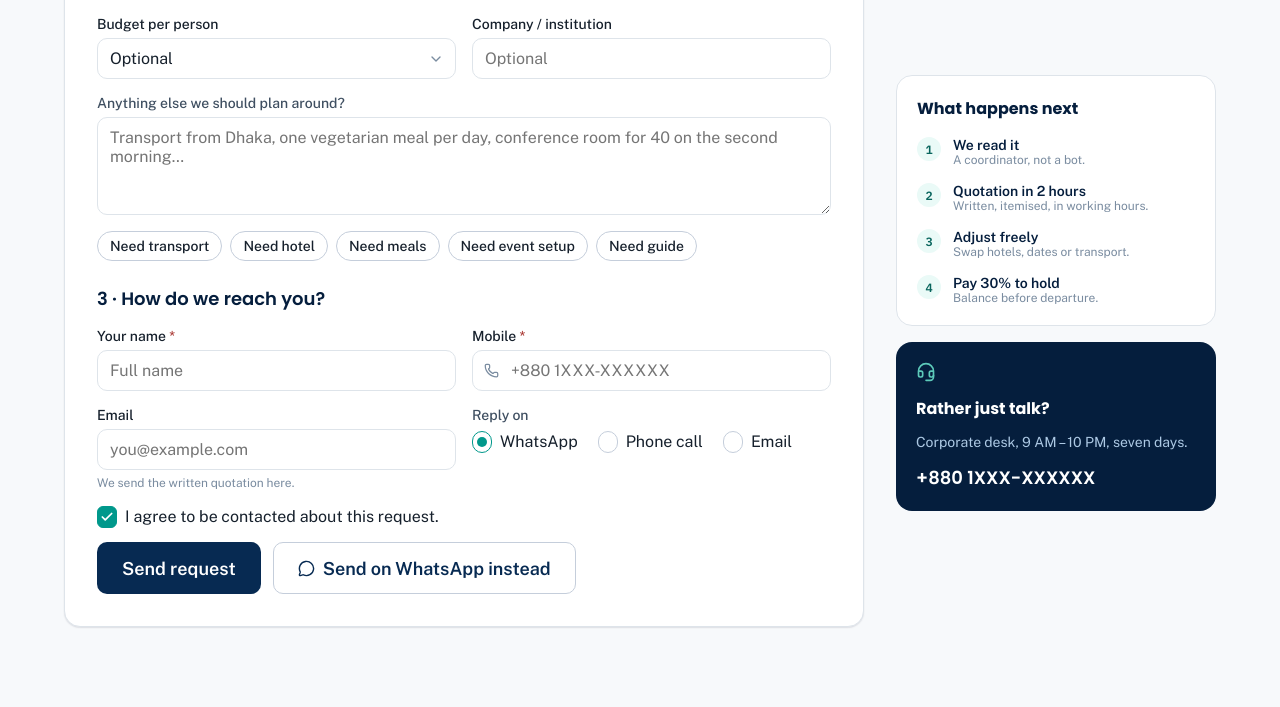
Test: request form › surfaces a rejected submission rather than pretending it worked
This screenshot has width=1280, height=707.
(page scrolled)
Click the button "Send request" at x=179, y=568, box [97,542,261,594]
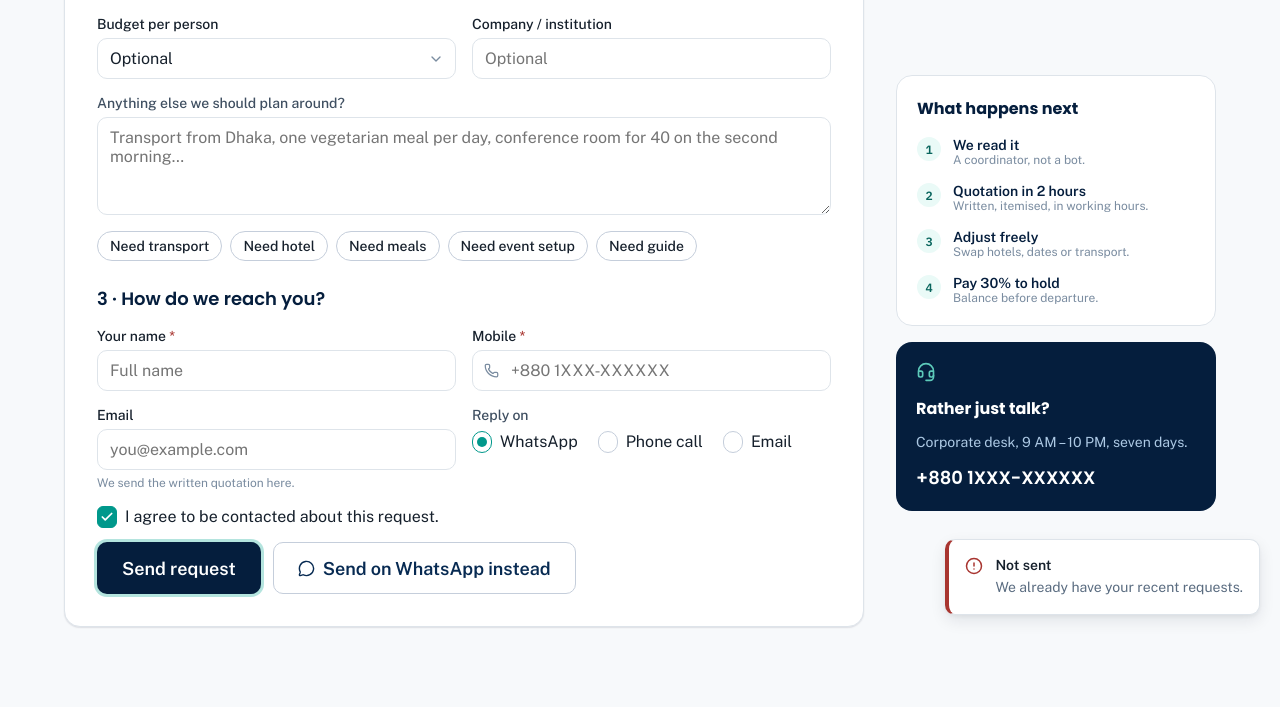
Expected: the text "Not sent" is shown, [995,557,1052,573]
Expected: the text "We already have your recent requests." is shown, [995,577,1243,598]
